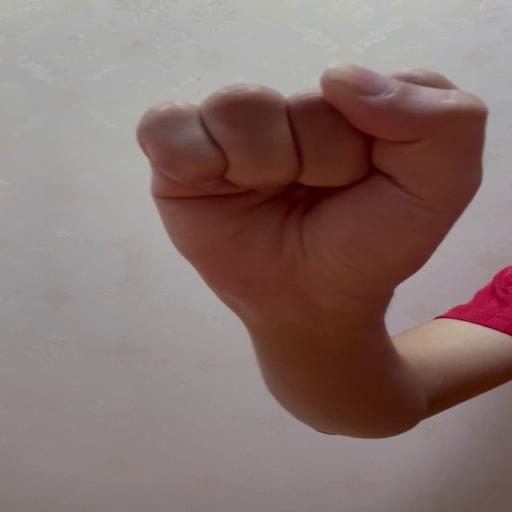fist: (132, 64, 491, 301)
